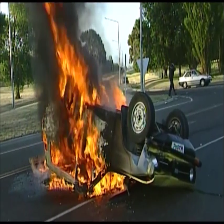fire_h: (43, 1, 107, 184), (87, 171, 126, 197)
fire_l: (48, 172, 74, 190), (113, 84, 127, 110), (39, 158, 50, 172), (42, 131, 48, 150)
